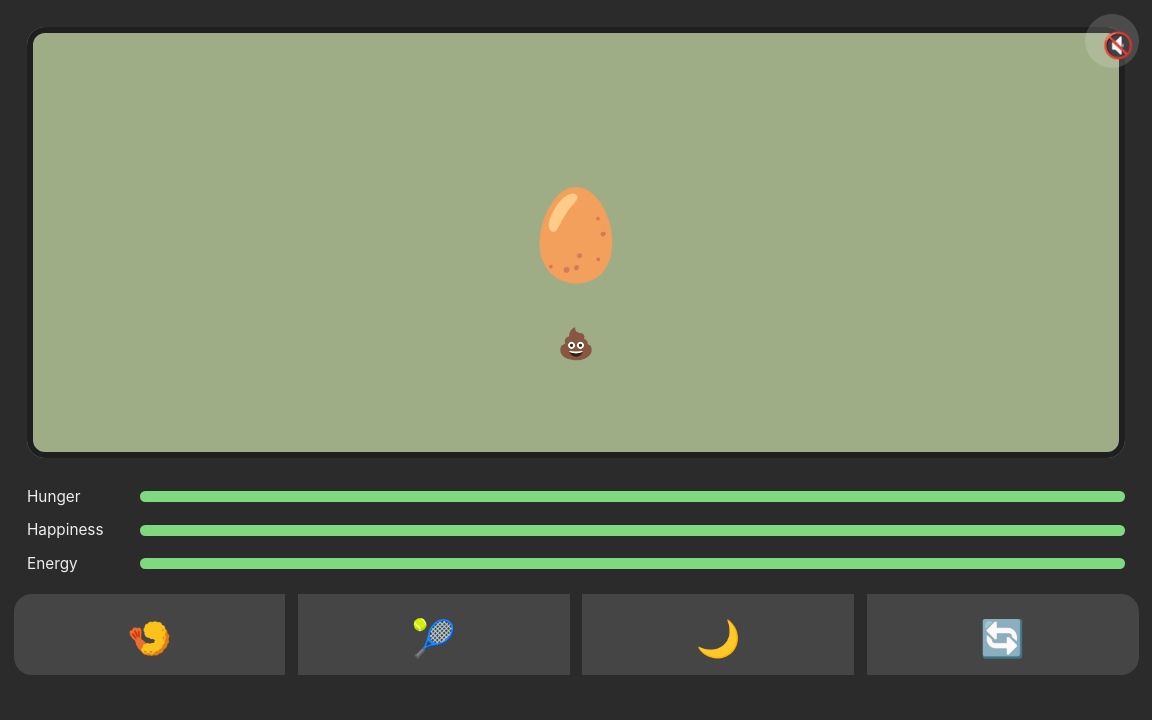
Scenario: Tamagotchi page › shows a poop pile that can be cleaned
Click the button with test id "poop": (576, 343) [539,307,613,379]
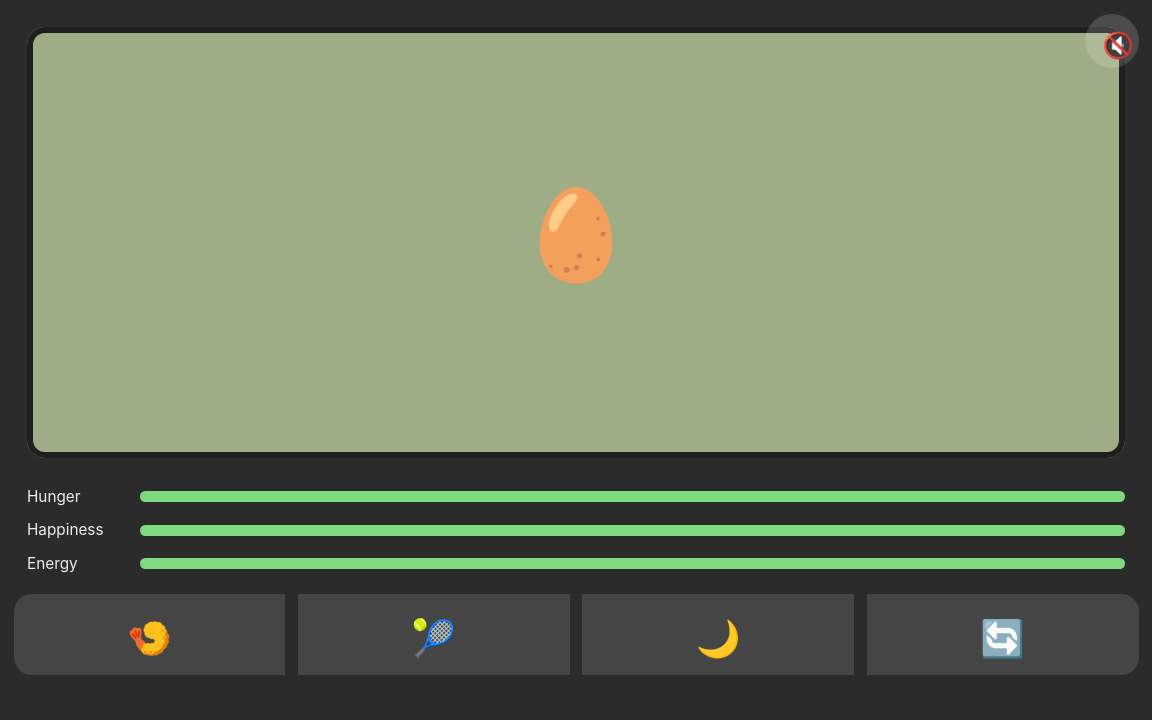
Expected: the button with test id "poop" is gone
